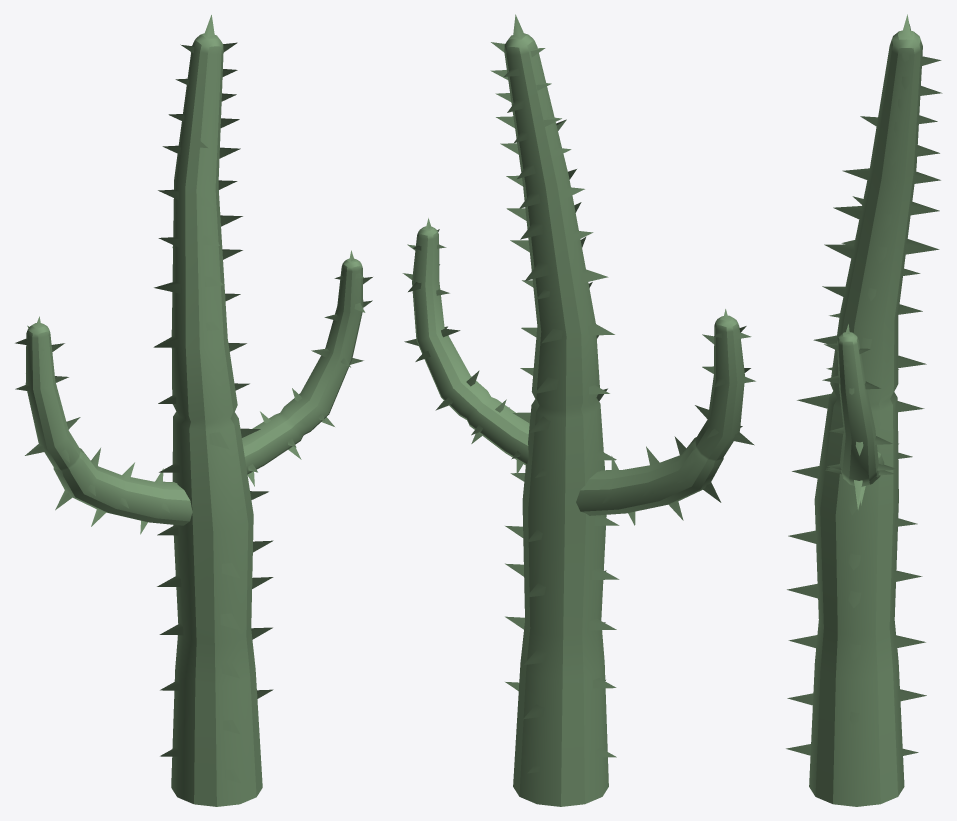
Rendered from Cactus_1.fbx.
3 views of the same model, side by side, from view 1: azimuth 30°, elevation 25°; view 2: azimuth 150°, elevation 25°; view 3: azimuth 270°, elevation 25° (orthographic). The views are drawn at different scales.
Visible parts, largest first — view 1: cactus_, cactus_arm, cactus_arm_2; view 2: cactus_, cactus_arm, cactus_arm_2; view 3: cactus_, cactus_arm_2.
Boxes of the visible parts, <box> form: cactus_: <box>153,15,273,806</box>; cactus_arm: <box>15,316,192,534</box>; cactus_arm_2: <box>242,250,372,486</box>; cactus_: <box>490,14,619,806</box>; cactus_arm: <box>576,309,755,525</box>; cactus_arm_2: <box>402,218,529,474</box>; cactus_: <box>786,14,942,806</box>; cactus_arm_2: <box>822,324,895,509</box>.
Size of the model in its own units: 2.24 by 4.62 by 0.8424.
